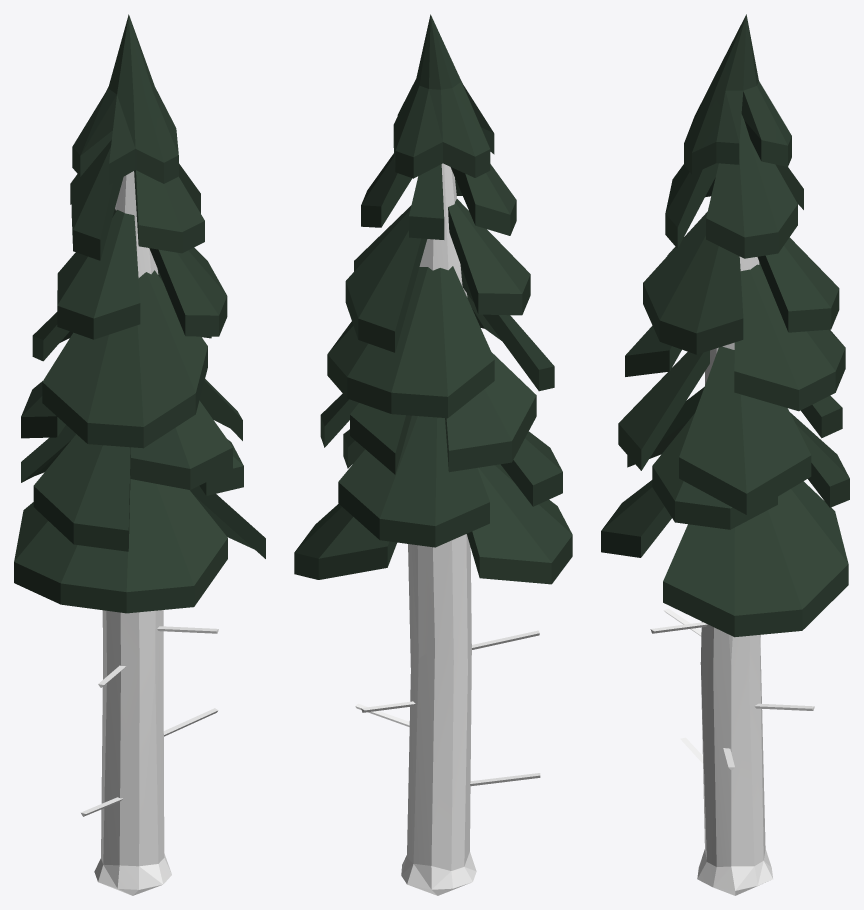
The model's file is Arbol_05.glb.
The picture shows the model from 3 angles, left to right: view 1: azimuth 30°, elevation 25°; view 2: azimuth 150°, elevation 25°; view 3: azimuth 270°, elevation 25°; orthographic projection.
Parts seen in each view (by area): view 1: SM_Env_Tree_Pine_Large_02_2; view 2: SM_Env_Tree_Pine_Large_02_2; view 3: SM_Env_Tree_Pine_Large_02_2.
Boxes of the visible parts, x1=… form: SM_Env_Tree_Pine_Large_02_2: x1=14, y1=14, x2=265, y2=895; SM_Env_Tree_Pine_Large_02_2: x1=294, y1=14, x2=572, y2=895; SM_Env_Tree_Pine_Large_02_2: x1=601, y1=14, x2=849, y2=895.
Bounding box in the file's own units: 2.02 × 7.13 × 1.82.
1 material, 1 textured.
